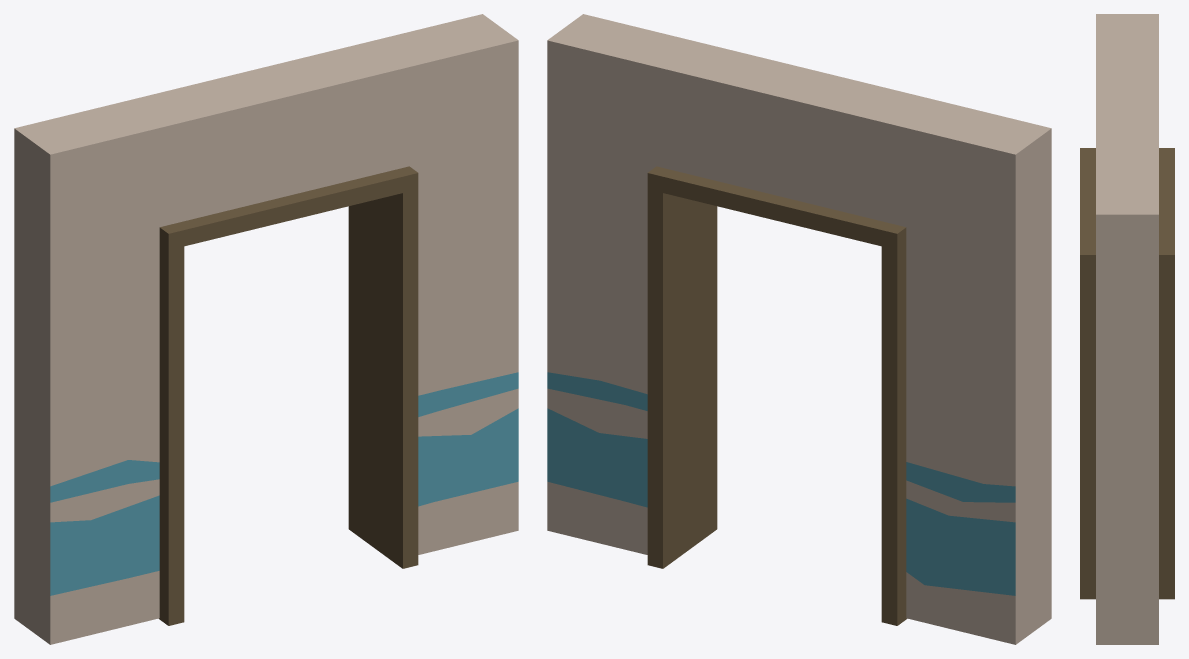
Rendered from greek_wall_3_door.fbx.
The picture shows the model from 3 angles, left to right: view 1: azimuth 30°, elevation 25°; view 2: azimuth 150°, elevation 25°; view 3: azimuth 270°, elevation 25°; orthographic projection. The views are drawn at different scales.
Visible parts, largest first — view 1: Cube.051; view 2: Cube.051; view 3: Cube.051.
Boxes of the visible parts, x1,y1,x2,y2 form: Cube.051: (14, 14, 518, 644); Cube.051: (547, 14, 1051, 644); Cube.051: (1080, 14, 1174, 644).
Bounding box in the file's own units: 300 × 301 × 60.
